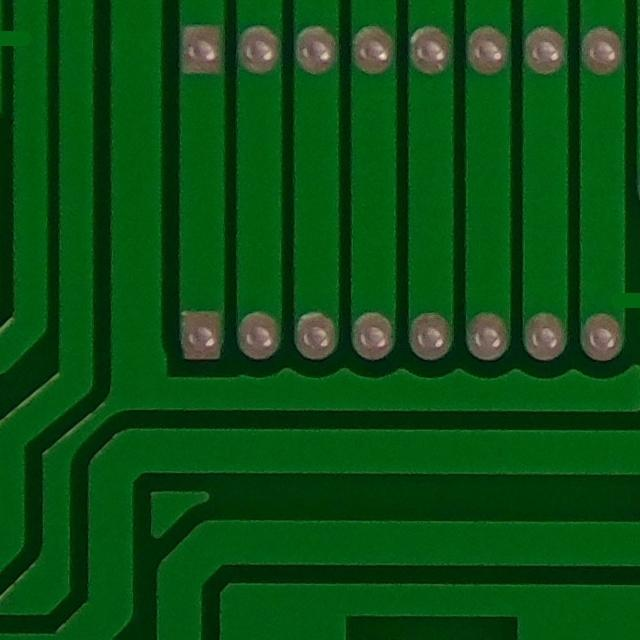short: (0, 0, 57, 95)
